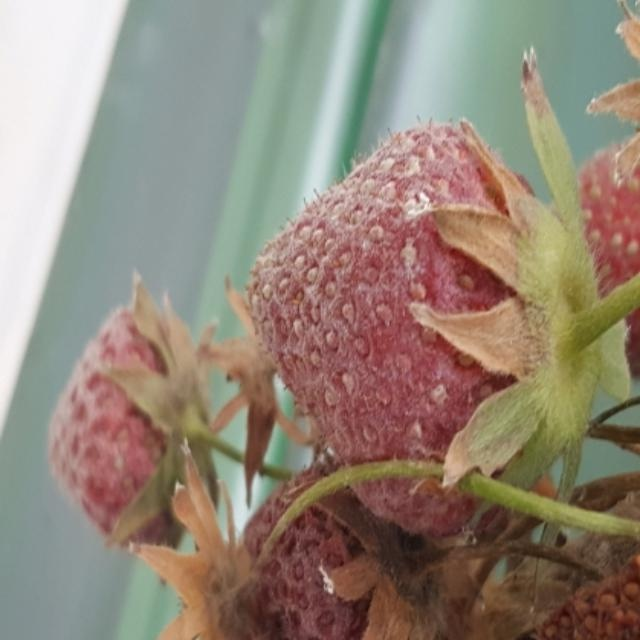Powdery Mildew Fruit: (246, 122, 581, 541), (233, 461, 418, 638)
